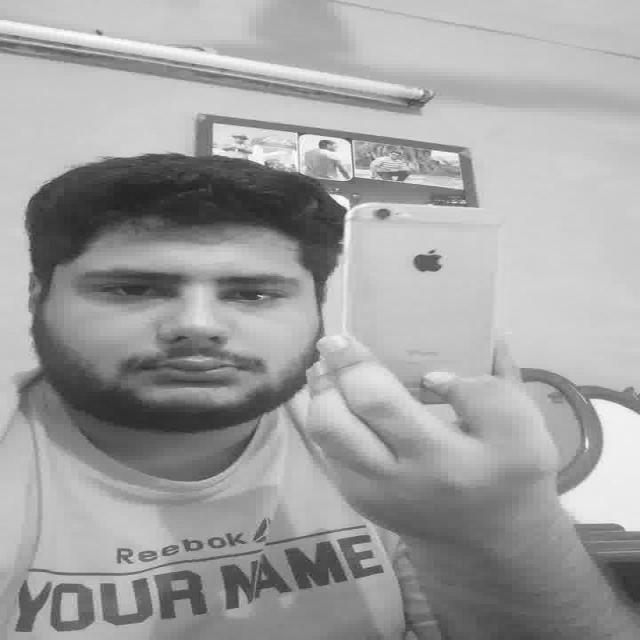fake: (325, 192, 530, 437)
real: (36, 219, 324, 439), (72, 255, 304, 317)
